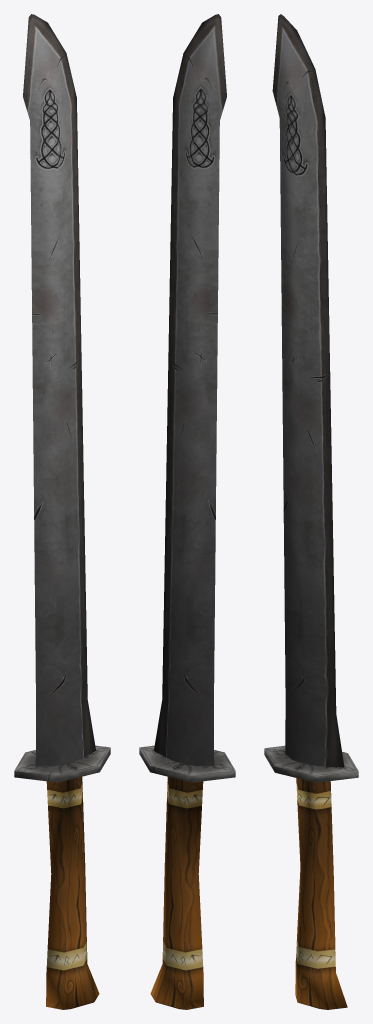
The model's file is staal_swaard.fbx.
The picture shows the model from 3 angles, left to right: view 1: azimuth 30°, elevation 25°; view 2: azimuth 150°, elevation 25°; view 3: azimuth 330°, elevation 25°; orthographic projection.
Visible parts, largest first — view 1: Cylinder_2; view 2: Cylinder_2; view 3: Cylinder_2.
Boxes of the visible parts, x1=… form: Cylinder_2: x1=14, y1=14, x2=110, y2=1009; Cylinder_2: x1=139, y1=14, x2=235, y2=1009; Cylinder_2: x1=264, y1=14, x2=358, y2=1009.
Bounding box in the file's own units: 37.87 × 377 × 22.04.
Materials: 1 (1 with a texture image).
